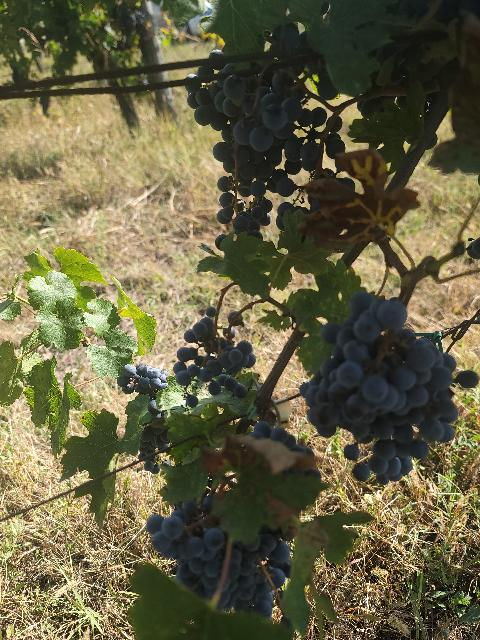grapes: (300, 291, 459, 484), (185, 62, 345, 235), (148, 490, 291, 618), (146, 495, 225, 599), (174, 308, 256, 398), (220, 528, 290, 616), (116, 362, 170, 474)
